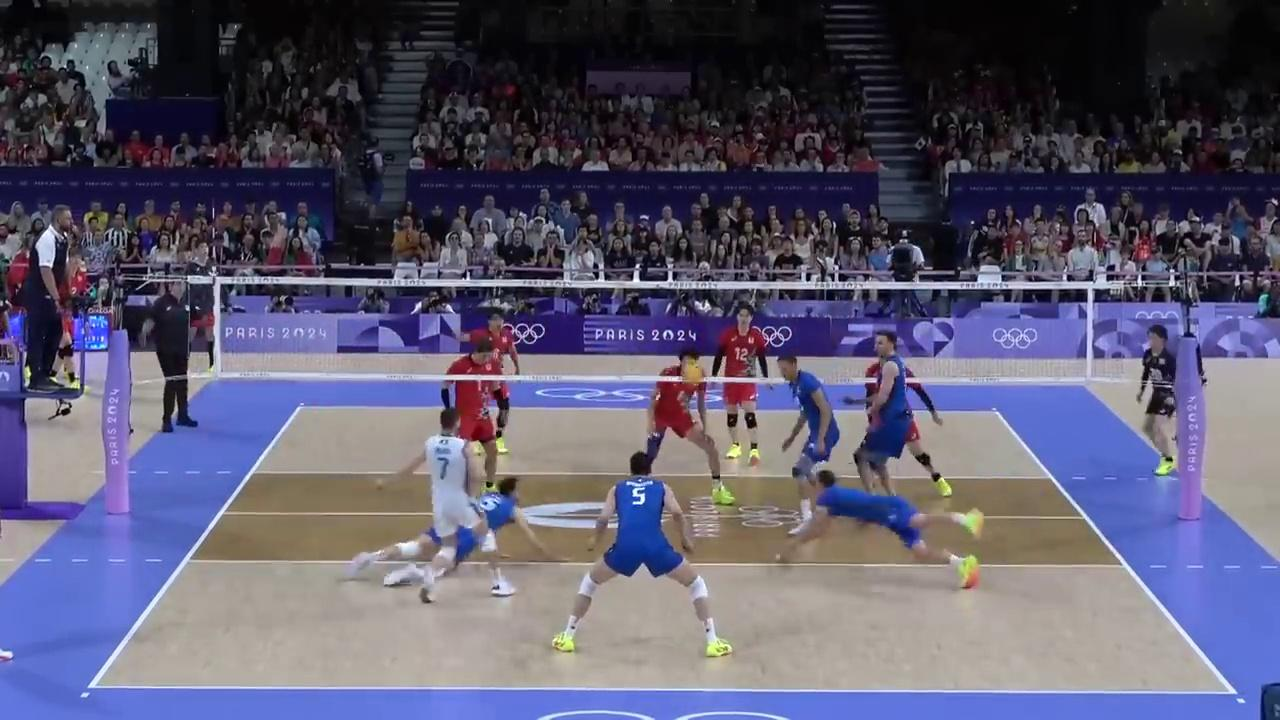ball: (680, 363, 705, 388)
